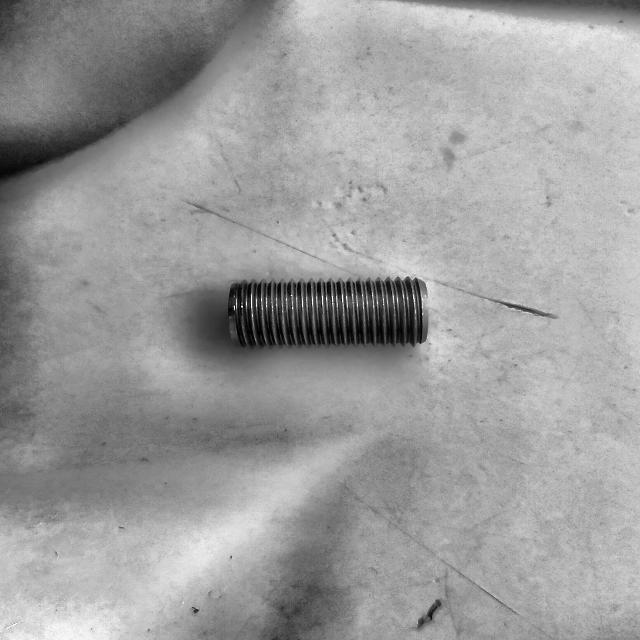Normal: (226, 275, 431, 351)
